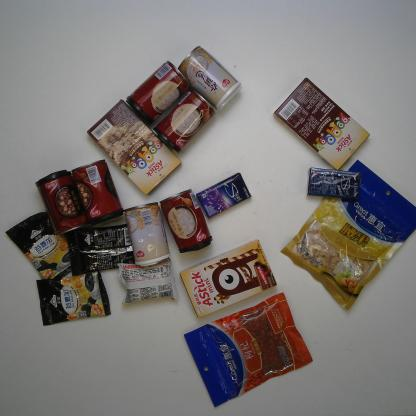Canned Food: (177, 45, 243, 112), (152, 87, 217, 155), (124, 60, 190, 126), (34, 168, 89, 236), (159, 187, 213, 254), (72, 158, 124, 226), (123, 201, 171, 268)
Dessert: (272, 76, 371, 171), (86, 99, 182, 196), (179, 238, 278, 318), (117, 256, 178, 306)
Dried Fruit: (279, 158, 416, 314), (183, 291, 314, 409)
Gum: (195, 171, 252, 219), (306, 166, 360, 200)
Instant Drink: (5, 210, 72, 280), (36, 271, 112, 326), (68, 223, 134, 277)
